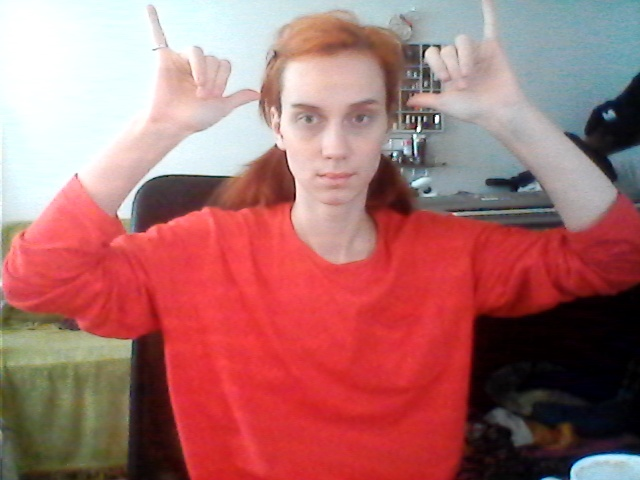krava: (128, 1, 529, 134)
